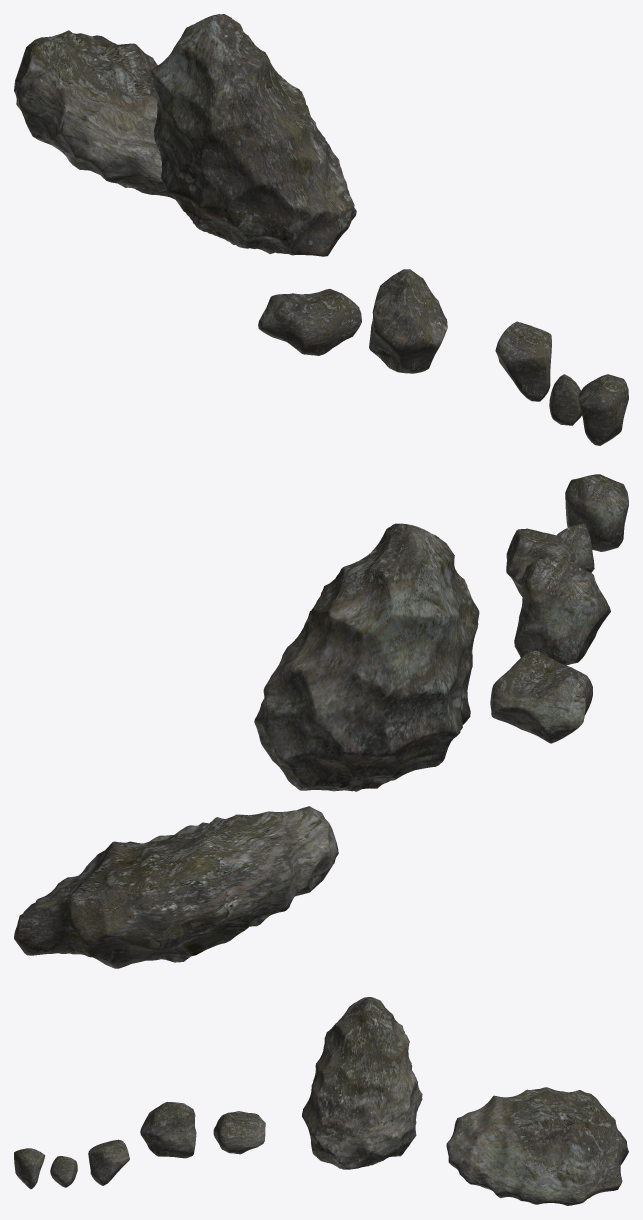
Rendered from DS_Rocks.fbx.
3 renders of one model, top to bottom at view 1: azimuth 30°, elevation 25°; view 2: azimuth 150°, elevation 25°; view 3: azimuth 270°, elevation 25°, orthographic. The views are drawn at different scales.
Parts seen in each view (by area): view 1: Rock.008, Rock.009, Rock.004, Rock.006, Rock.002, Rock.007, Rock.001; view 2: Rock.008, Rock.009, Rock.004, Rock.006, Rock.007, Rock.002, Rock.001; view 3: Rock.009, Rock.008, Rock.004, Rock.006, Rock.002, Rock.007, Rock.001.
Part boxes in pixels (<box>): Rock.008: <box>151,14,356,256</box>; Rock.009: <box>14,30,174,199</box>; Rock.004: <box>369,269,447,373</box>; Rock.006: <box>258,289,361,355</box>; Rock.002: <box>495,321,551,401</box>; Rock.007: <box>578,374,628,445</box>; Rock.001: <box>549,374,581,425</box>; Rock.008: <box>254,523,479,791</box>; Rock.009: <box>14,806,338,968</box>; Rock.004: <box>514,557,610,665</box>; Rock.006: <box>490,650,592,743</box>; Rock.007: <box>565,474,628,551</box>; Rock.002: <box>506,528,575,596</box>; Rock.001: <box>556,523,594,572</box>; Rock.009: <box>446,1087,628,1205</box>; Rock.008: <box>302,997,422,1169</box>; Rock.004: <box>140,1102,196,1158</box>; Rock.006: <box>213,1111,265,1154</box>; Rock.002: <box>88,1139,129,1185</box>; Rock.007: <box>14,1148,45,1189</box>; Rock.001: <box>50,1156,77,1187</box>.
Size of the model in its own units: 771 by 940 by 3116.
